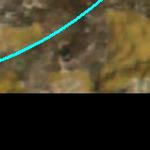alive: (1, 1, 148, 91)
